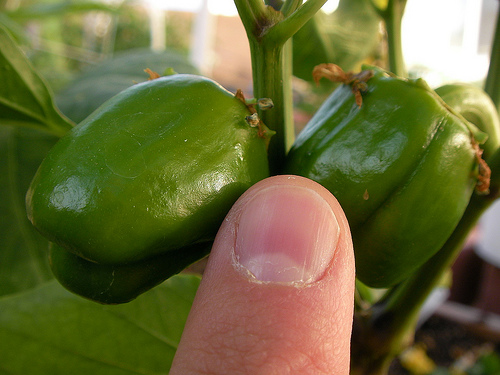capsicum: (23, 73, 277, 306), (281, 62, 482, 288)
